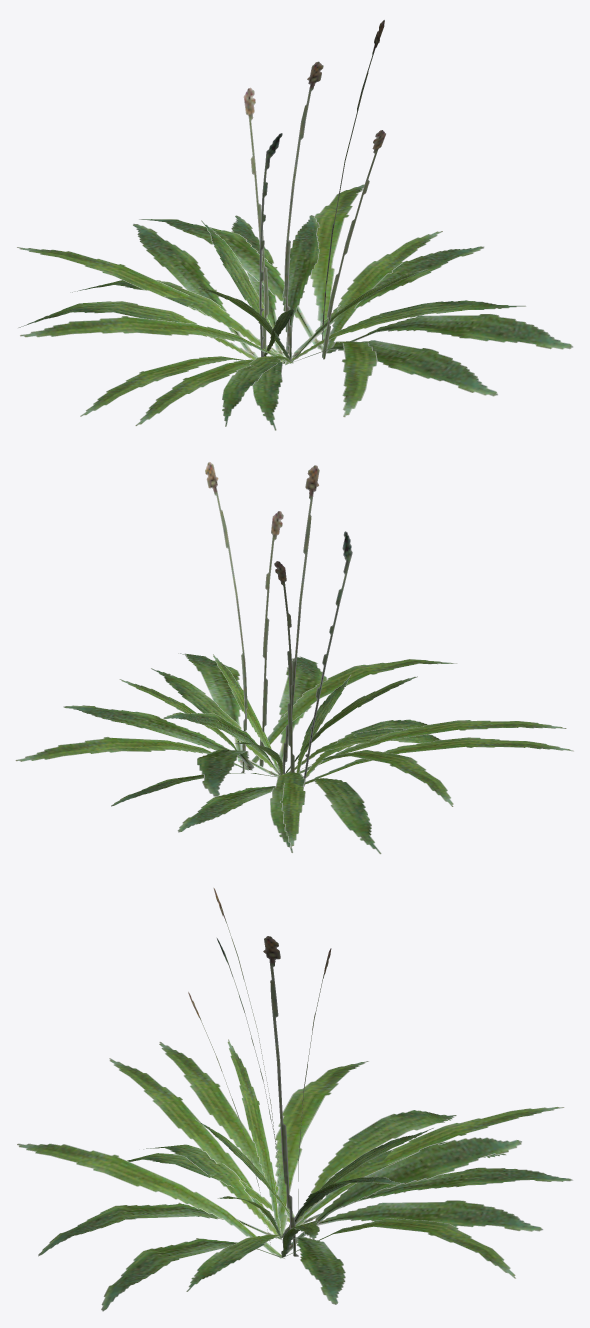
File: flower15_05.fbx
3 renders of one model, top to bottom at view 1: azimuth 30°, elevation 25°; view 2: azimuth 150°, elevation 25°; view 3: azimuth 270°, elevation 25°, orthographic. The views are drawn at different scales.
Visible parts, largest first — view 1: flower_15_05; view 2: flower_15_05; view 3: flower_15_05.
Part boxes in pixels (x1,y1,x2,y2): flower_15_05: [17, 20, 573, 430]; flower_15_05: [15, 462, 573, 854]; flower_15_05: [17, 887, 573, 1311].
Bounding box in the file's own units: 22.6 × 14.46 × 20.98.
